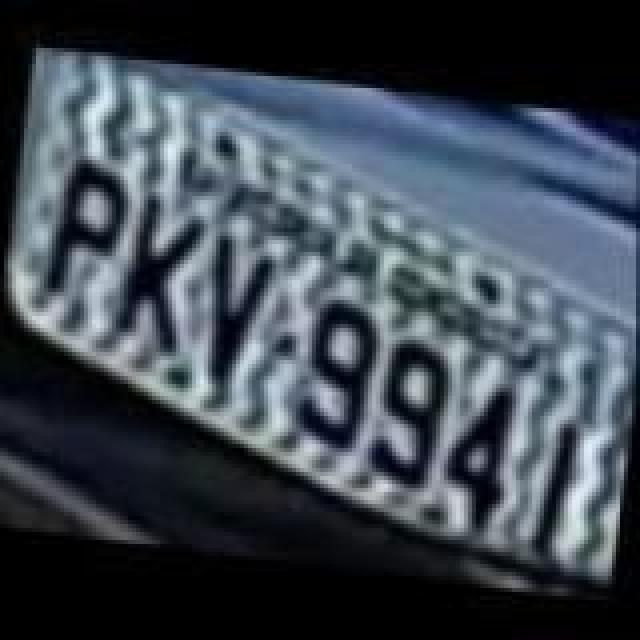1: (528, 406, 584, 554)
4: (440, 374, 524, 534)
9: (288, 288, 384, 448), (366, 326, 458, 490)
K: (106, 190, 206, 366)
P: (38, 158, 126, 298)
V: (182, 220, 278, 396)
